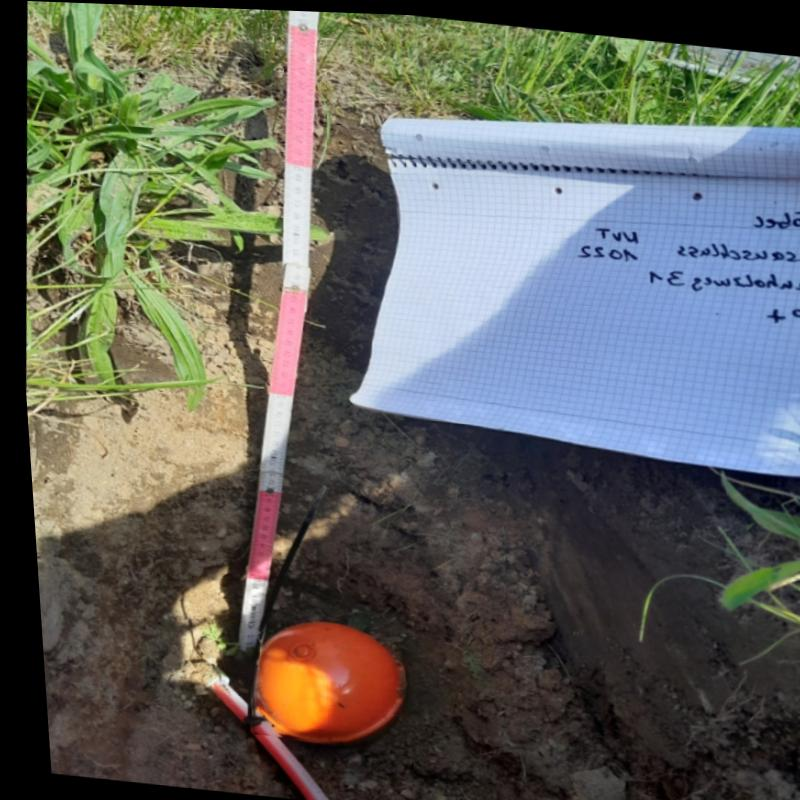Kugelmarker: (242, 618, 397, 740)
